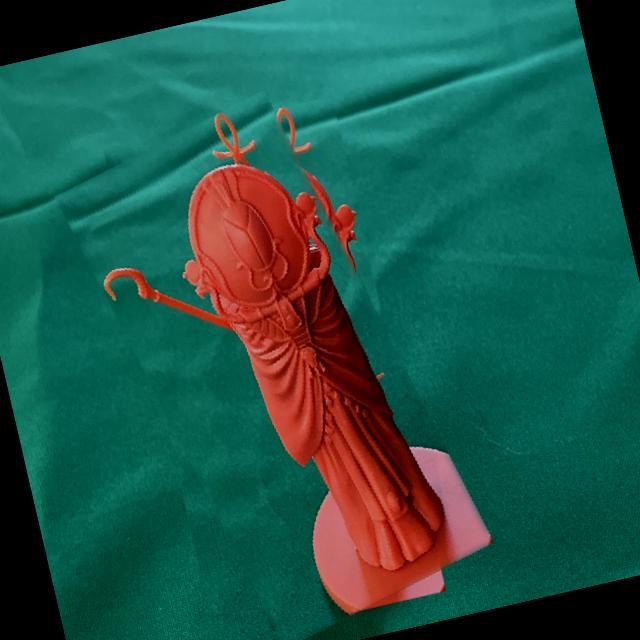amon: (72, 79, 476, 640)
